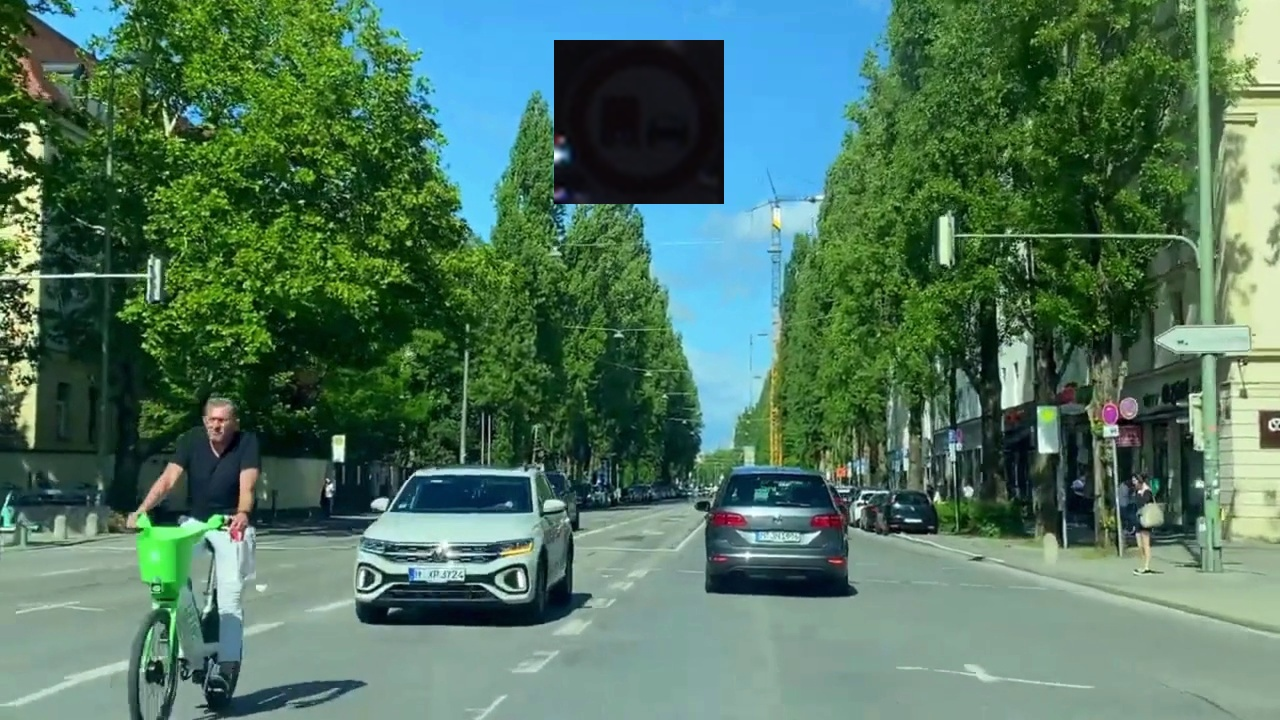No pass >3.5t: (554, 40, 724, 204)
